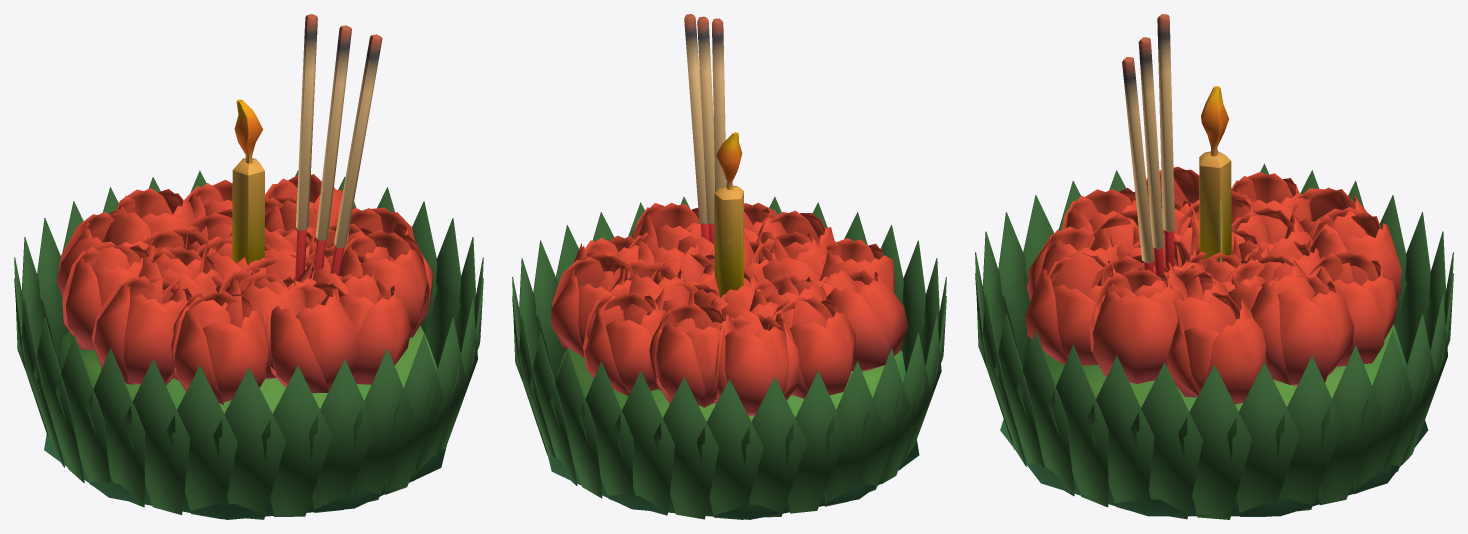
3 renders of one model, left to right at view 1: azimuth 30°, elevation 25°; view 2: azimuth 150°, elevation 25°; view 3: azimuth 270°, elevation 25°, orthographic. The views are drawn at different scales.
Parts seen in each view (by area): view 1: Flower_017_Base_Material_0_002, Object_0_001, Flower_017_Base_Material_0, Flower_022_Base_Material_0_016, Flower_022_Base_Material_0_017, Flower_022_Base_Material_0_007, Flower_022_Base_Material_0_006, Flower_022_Base_Material_0_014, Flower_022_Base_Material_0_008, Flower_022_Base_Material_0_015, Flower_022_Base_Material_0_010, Flower_022_Base_Material_0_009 (+9 smaller); view 2: Flower_017_Base_Material_0_002, Object_0_001, Flower_022_Base_Material_0_024, Flower_022_Base_Material_0_023, Flower_017_Base_Material_0, Flower_022_Base_Material_0_022, Flower_022_Base_Material_0_001, Flower_022_Base_Material_0_020, Flower_022_Base_Material_0_003, Flower_022_Base_Material_0_021, Flower_022_Base_Material_0_019, Flower_022_Base_Material_0_005 (+10 smaller); view 3: Flower_017_Base_Material_0_002, Object_0_001, Flower_017_Base_Material_0, Flower_022_Base_Material_0_030, Flower_022_Base_Material_0_029, Flower_022_Base_Material_0_025, Flower_022_Base_Material_0_031, Flower_022_Base_Material_0_026, Flower_022_Base_Material_0_060, Flower_022_Base_Material_0_028, Flower_022_Base_Material_0_013, Flower_022_Base_Material_0_027 (+10 smaller).
Part boxes in pixels (left/top/right/bottom): Flower_017_Base_Material_0_002: left=56, top=174, right=433, bottom=404; Object_0_001: left=232, top=14, right=382, bottom=280; Flower_017_Base_Material_0: left=44, top=325, right=446, bottom=519; Flower_022_Base_Material_0_016: left=261, top=365, right=332, bottom=516; Flower_022_Base_Material_0_017: left=213, top=367, right=285, bottom=519; Flower_022_Base_Material_0_007: left=166, top=365, right=237, bottom=519; Flower_022_Base_Material_0_006: left=123, top=358, right=189, bottom=514; Flower_022_Base_Material_0_014: left=309, top=359, right=375, bottom=512; Flower_022_Base_Material_0_008: left=86, top=348, right=144, bottom=507; Flower_022_Base_Material_0_015: left=352, top=348, right=413, bottom=501; Flower_022_Base_Material_0_010: left=385, top=334, right=443, bottom=494; Flower_022_Base_Material_0_009: left=55, top=334, right=110, bottom=485; Flower_017_Base_Material_0_002: left=551, top=202, right=907, bottom=415; Object_0_001: left=684, top=14, right=743, bottom=297; Flower_022_Base_Material_0_024: left=653, top=377, right=718, bottom=519; Flower_022_Base_Material_0_023: left=696, top=379, right=763, bottom=519; Flower_017_Base_Material_0: left=547, top=348, right=919, bottom=519; Flower_022_Base_Material_0_022: left=741, top=377, right=806, bottom=517; Flower_022_Base_Material_0_001: left=785, top=371, right=846, bottom=513; Flower_022_Base_Material_0_020: left=613, top=371, right=674, bottom=515; Flower_022_Base_Material_0_003: left=825, top=361, right=881, bottom=506; Flower_022_Base_Material_0_021: left=578, top=361, right=633, bottom=501; Flower_022_Base_Material_0_019: left=550, top=348, right=602, bottom=498; Flower_022_Base_Material_0_005: left=857, top=348, right=909, bottom=491; Flower_017_Base_Material_0_002: left=1025, top=166, right=1401, bottom=404; Object_0_001: left=1122, top=14, right=1231, bottom=275; Flower_017_Base_Material_0: left=1000, top=324, right=1428, bottom=516; Flower_022_Base_Material_0_030: left=1178, top=364, right=1252, bottom=519; Flower_022_Base_Material_0_029: left=1130, top=362, right=1202, bottom=519; Flower_022_Base_Material_0_025: left=1227, top=362, right=1299, bottom=516; Flower_022_Base_Material_0_031: left=1086, top=356, right=1154, bottom=510; Flower_022_Base_Material_0_026: left=1275, top=355, right=1343, bottom=511; Flower_022_Base_Material_0_060: left=1048, top=345, right=1108, bottom=507; Flower_022_Base_Material_0_028: left=1319, top=345, right=1381, bottom=505; Flower_022_Base_Material_0_013: left=1017, top=331, right=1074, bottom=496; Flower_022_Base_Material_0_027: left=1353, top=331, right=1412, bottom=494.
Size of the model in its own units: 0.1931 by 0.1934 by 0.192.
Materials: 32 (32 with a texture image).
